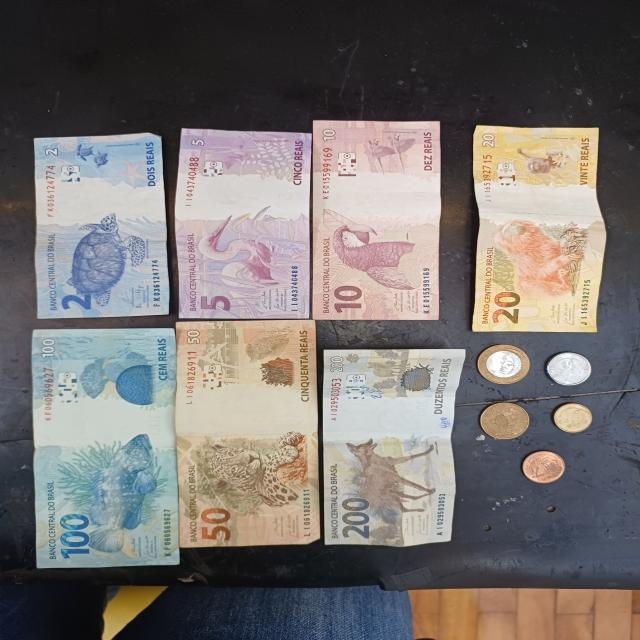1 real: (478, 344, 530, 386)
25 cents: (479, 403, 532, 441)
50 cents: (547, 352, 592, 386)
